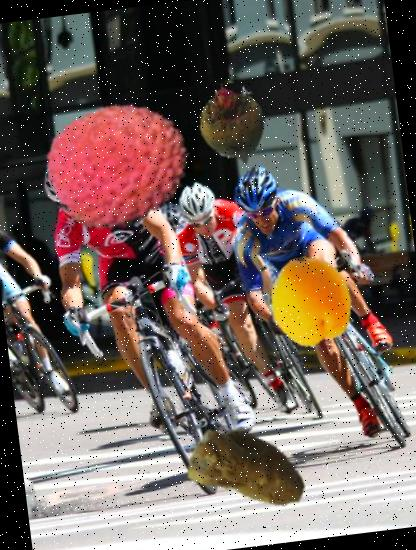Beetroot: (183, 73, 282, 172)
Ginger: (180, 402, 316, 538)
Lychee: (36, 83, 198, 246)
Peach: (260, 250, 361, 352)
